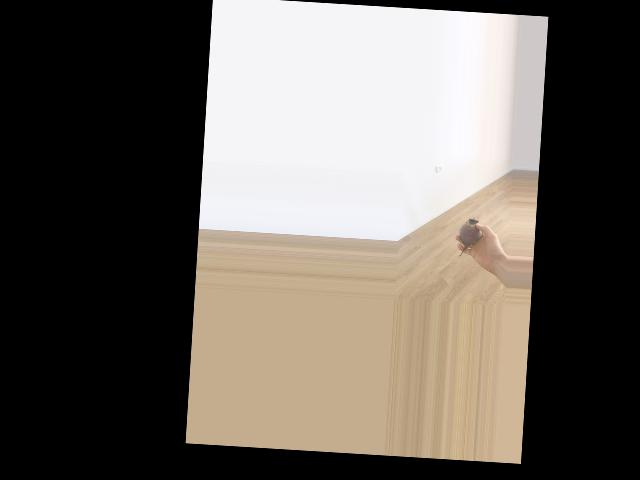beet: (457, 217, 482, 257)
